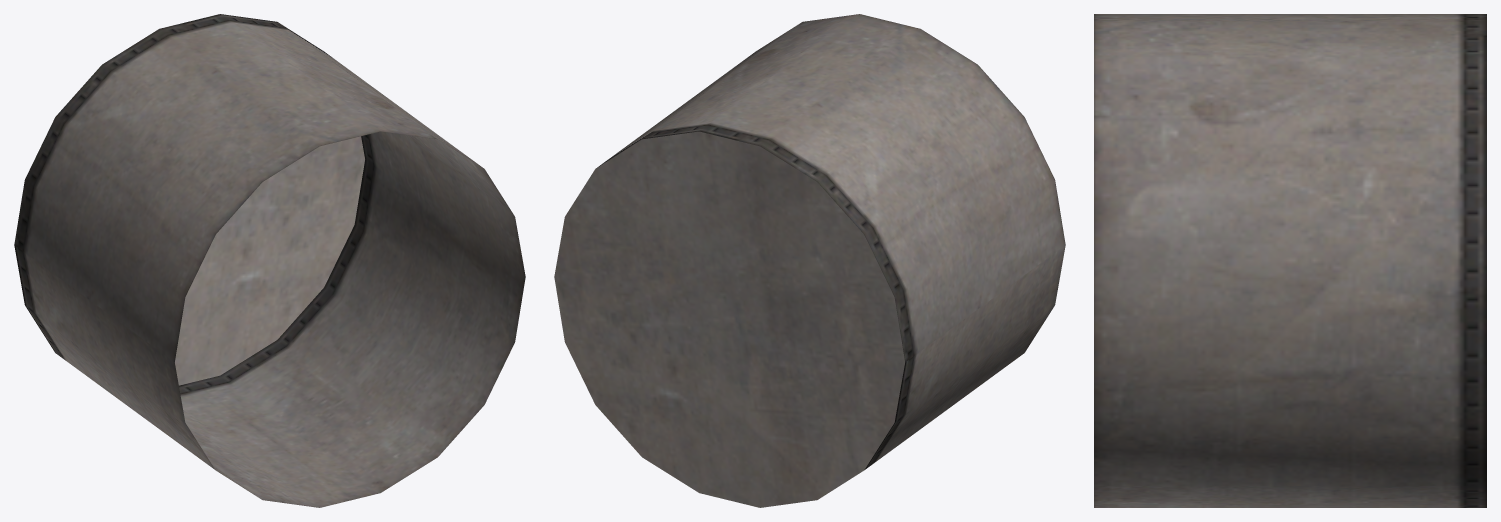
Rendered from 03_02_pressure_chamber_interior.dae.
The picture shows the model from 3 angles, left to right: view 1: azimuth 30°, elevation 25°; view 2: azimuth 150°, elevation 25°; view 3: azimuth 270°, elevation 25°; orthographic projection. The views are drawn at different scales.
Visible parts, largest first — view 1: Mesh; view 2: Mesh; view 3: Mesh.
Boxes of the visible parts, <box> form: Mesh: <box>14,14,525,507</box>; Mesh: <box>554,14,1065,507</box>; Mesh: <box>1094,14,1486,507</box>.
Bounding box in the file's own units: 2.03 × 2 × 1.61.
